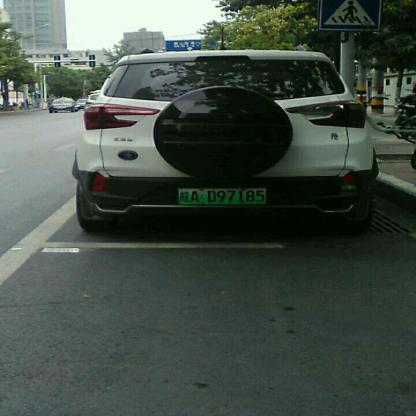lp: (176, 188, 268, 204)
